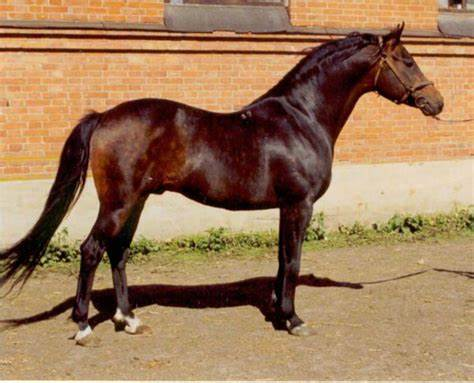horse: (1, 16, 447, 350)
